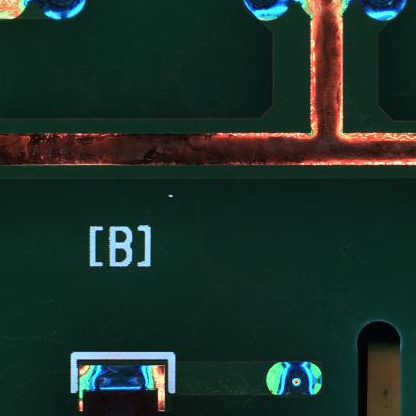spot: (265, 361, 323, 395)
